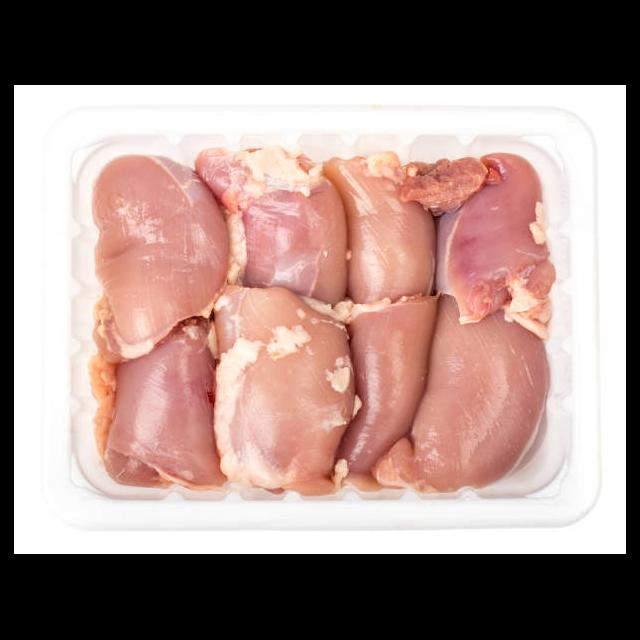chicken: (370, 294, 552, 496), (212, 284, 359, 498), (89, 156, 236, 350), (401, 154, 557, 336), (193, 146, 349, 308), (104, 318, 229, 496), (331, 297, 445, 478), (323, 153, 438, 304)
